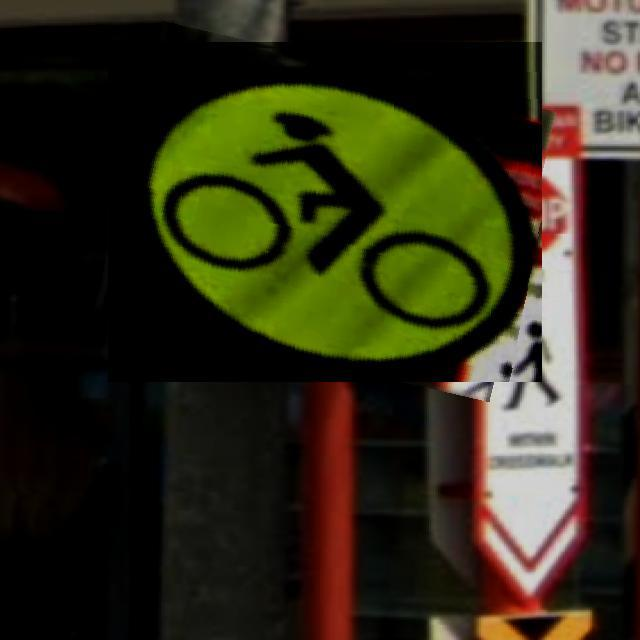bike lane: (109, 42, 543, 382)
